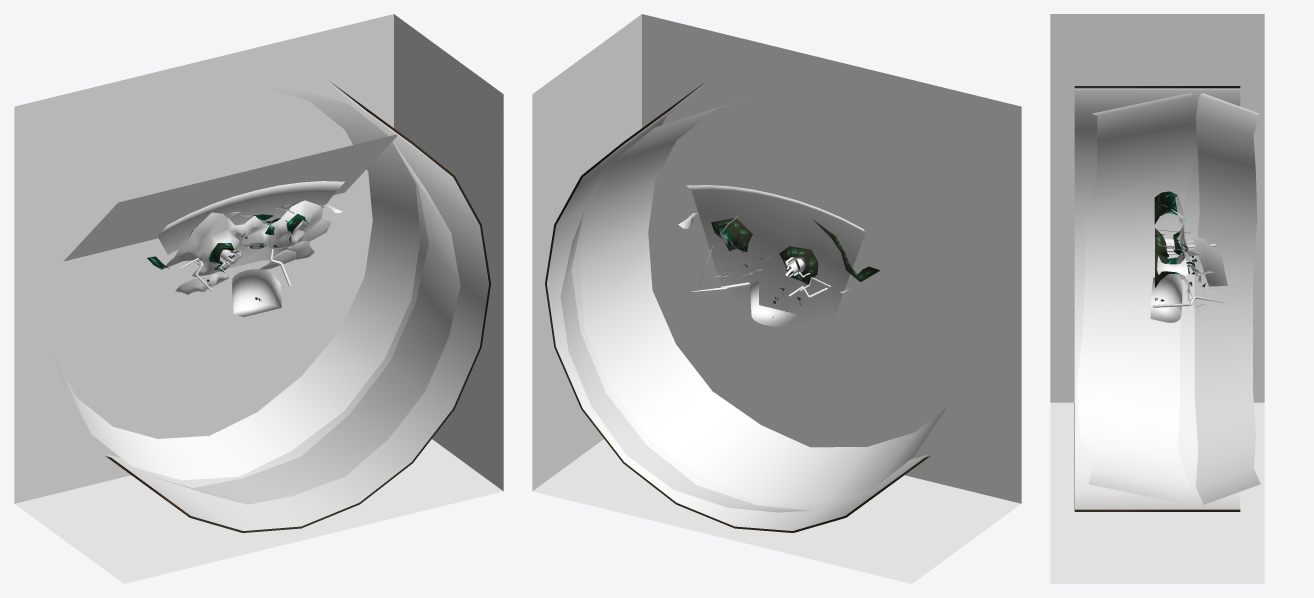
Rendered from skybox.glb.
3 views of the same model, side by side, from view 1: azimuth 30°, elevation 25°; view 2: azimuth 150°, elevation 25°; view 3: azimuth 270°, elevation 25° (orthographic). The views are drawn at different scales.
Parts seen in each view (by area): view 1: rsrc.world.skybox.clockwork_tunnels.parts.model_skywall-Mesh (×5), rsrc.world.skybox.catacombs.parts.base-MeshNodes["mesh_backd, rsrc.world.skybox.catacombs.parts.base-MeshNodes["mesh_rock", rsrc.world.skybox.low_detail.model_renderscene-Submesh[0], rsrc.world.skybox.catacombs.parts.base-MeshNodes["mesh_rockw; view 2: rsrc.world.skybox.clockwork_tunnels.parts.model_skywall-Mesh (×5), rsrc.world.skybox.catacombs.parts.base-MeshNodes["mesh_backd, rsrc.world.skybox.catacombs.parts.base-MeshNodes["mesh_rockw, rsrc.world.skybox.low_detail.model_renderscene-Submesh[0], rsrc.world.skybox.catacombs.parts.base-MeshNodes["mesh_pipes; view 3: rsrc.world.skybox.clockwork_tunnels.parts.model_skywall-Mesh (×5), rsrc.world.skybox.catacombs.parts.base-MeshNodes["mesh_rockw, rsrc.world.skybox.low_detail.model_renderscene-Submesh[0], rsrc.world.skybox.catacombs.parts.base-MeshNodes["mesh_backd, rsrc.world.skybox.catacombs.parts.base-MeshNodes["mesh_rock", rsrc.world.skybox.catacombs.parts.base-MeshNodes["mesh_pipes, rsrc.world.skybox.catacombs.parts.base-MeshNodes["mesh_farro.
Part boxes in pixels (x1,y1,x2,y2): rsrc.world.skybox.clockwork_tunnels.parts.model_skywall-Mesh (×5): (14,14,503,583); rsrc.world.skybox.catacombs.parts.base-MeshNodes["mesh_backd: (63,134,398,269); rsrc.world.skybox.catacombs.parts.base-MeshNodes["mesh_rock": (161,200,331,294); rsrc.world.skybox.low_detail.model_renderscene-Submesh[0]: (232,269,281,317); rsrc.world.skybox.catacombs.parts.base-MeshNodes["mesh_rockw: (147,213,309,283); rsrc.world.skybox.clockwork_tunnels.parts.model_skywall-Mesh (×5): (532,14,1021,583); rsrc.world.skybox.catacombs.parts.base-MeshNodes["mesh_backd: (686,185,865,329); rsrc.world.skybox.catacombs.parts.base-MeshNodes["mesh_rockw: (711,218,880,317); rsrc.world.skybox.low_detail.model_renderscene-Submesh[0]: (750,280,797,326); rsrc.world.skybox.catacombs.parts.base-MeshNodes["mesh_pipes: (692,216,830,297); rsrc.world.skybox.clockwork_tunnels.parts.model_skywall-Mesh (×5): (1050,14,1264,583); rsrc.world.skybox.catacombs.parts.base-MeshNodes["mesh_rockw: (1154,191,1205,287); rsrc.world.skybox.low_detail.model_renderscene-Submesh[0]: (1150,274,1183,322); rsrc.world.skybox.catacombs.parts.base-MeshNodes["mesh_backd: (1191,235,1227,286); rsrc.world.skybox.catacombs.parts.base-MeshNodes["mesh_rock": (1175,195,1214,325); rsrc.world.skybox.catacombs.parts.base-MeshNodes["mesh_pipes: (1152,229,1225,307); rsrc.world.skybox.catacombs.parts.base-MeshNodes["mesh_farro: (1157,205,1188,276).
Size of the model in its own units: 90 by 90 by 52.32.
14 materials, 6 textured.
